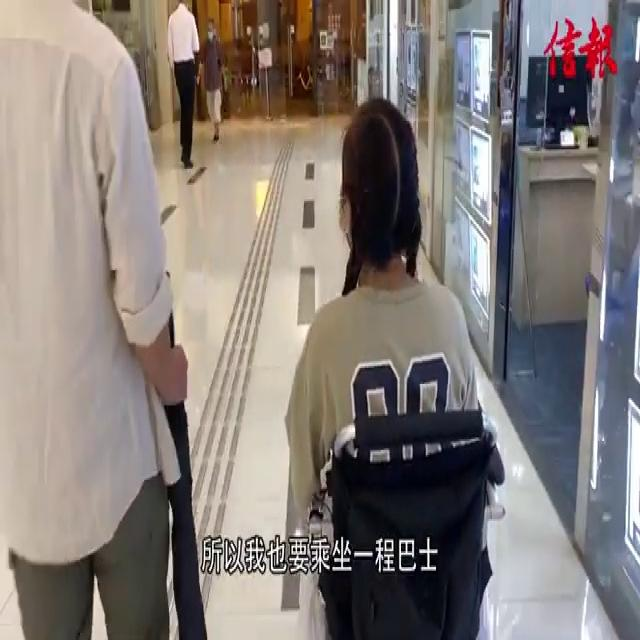wheelchairs: (298, 386, 511, 640)
